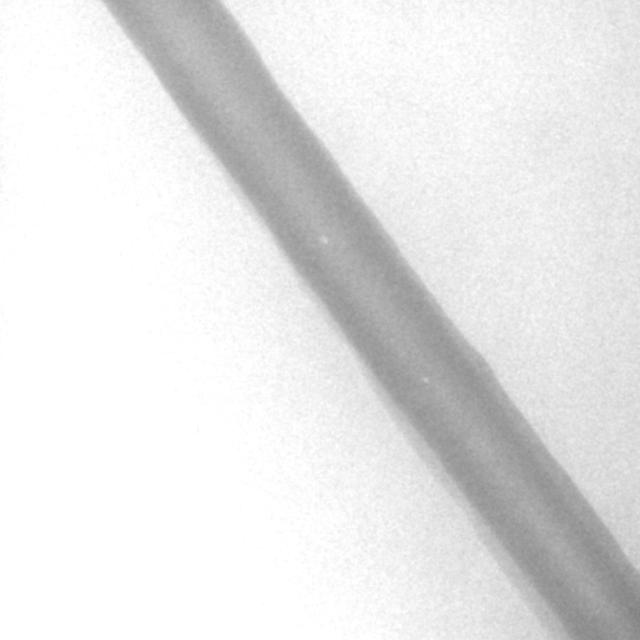air hole: (320, 235, 331, 248), (419, 374, 430, 386)
